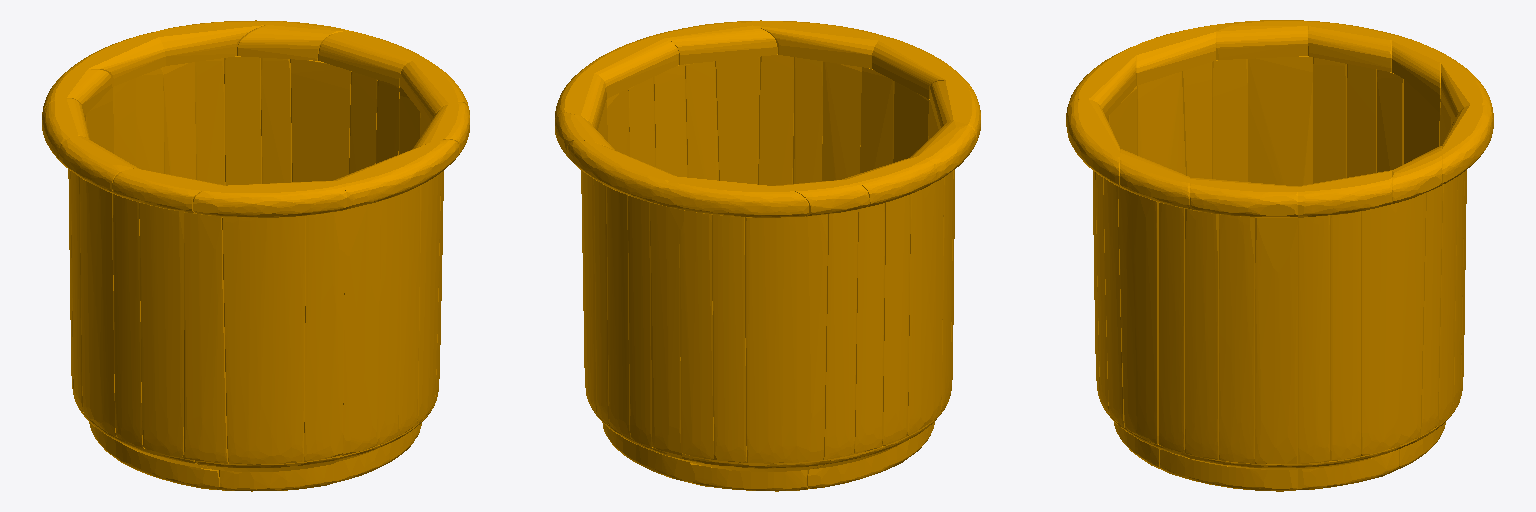
URDF robot description (065-h_cups):
<?xml version="1.0" encoding="UTF-8"?>
<robot name="065-h_cups">
	<link name="base">
		<collision>
			<geometry>
				<mesh filename="..\vhacd\065-h_cups_vhacd.obj" scale="1.0 1.0 1.0"/>
			</geometry>
			<origin xyz="0 0 0"/>
			<contact_coefficients mu="0.24" />
		</collision>
		<visual>
			<geometry>
				<mesh filename="..\vhacd\065-h_cups_vhacd.obj" scale="1.0 1.0 1.0"/>
			</geometry>
			<origin xyz="0 0 0"/>
		</visual>
		<inertial>
			<mass value="0"/>
			<inertia ixx="0.0" ixy="0.0" ixz="0.0" iyy="0.0" iyz="-0.0" izz="0.0" />
			<origin xyz="0.0025358414396574416 0.014808556803953316 0.035934366126999066"/>
		</inertial>
	</link>
</robot>

--- Facts derived from the render (not from the file) ---
The picture shows the robot from 3 angles, left to right: view 1: azimuth 30°, elevation 25°; view 2: azimuth 150°, elevation 25°; view 3: azimuth 270°, elevation 25°; orthographic projection.
Robot: 065-h_cups — 1 links, 0 joints (none); root link base; default pose: all joints at 0.
Links seen in each view (by area): view 1: base; view 2: base; view 3: base.
Link boxes in pixels (x1,y1,x2,y2): base: (42,20,469,491); base: (555,20,980,491); base: (1066,20,1493,491).
Size in the robot's own frame: 0.0916 by 0.0918 by 0.0752 metres.
Meshes: 1 distinct files referenced, 1 mesh visuals loaded (1 OBJ).